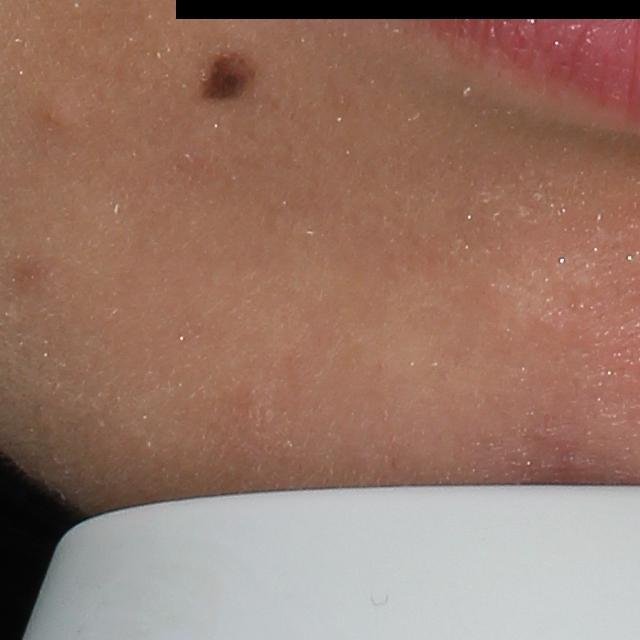comedo: (40, 91, 80, 134)
nevus: (194, 42, 267, 112)
